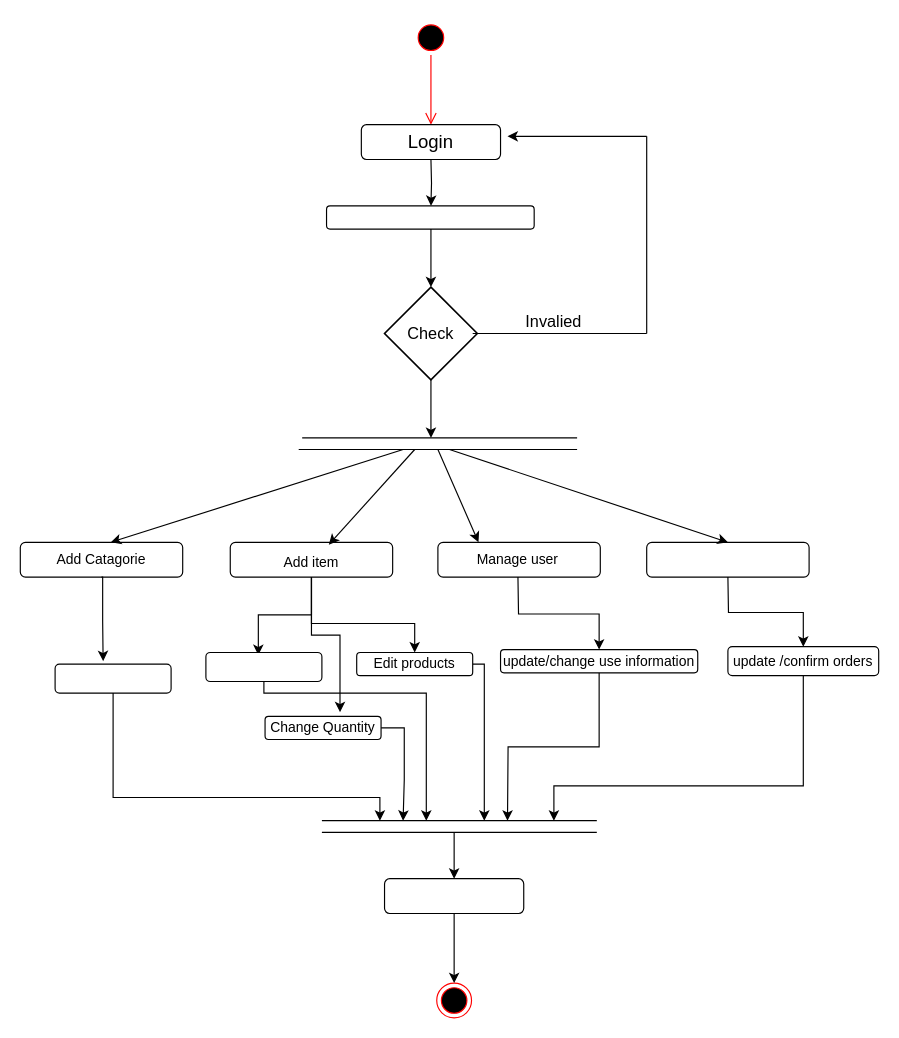
This 899x1038 diagram has some shape labels left out. The shapes that lost their labels are listed below. From the top down, each one's box as (x1, y1, x2, y2) in pixels, then its label:
(325, 205, 534, 229): Authentication
(646, 541, 809, 577): Manage order
(54, 663, 171, 693): Change details
(205, 651, 322, 682): Change price
(383, 878, 524, 913): Log Out
